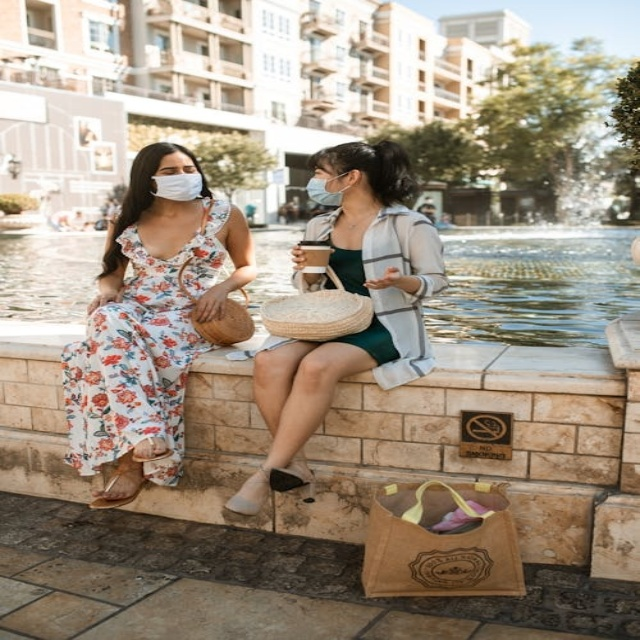Mascara: (149, 172, 205, 202), (306, 173, 351, 207)
Sin_gafas: (154, 165, 199, 176)
Sin_guantes: (361, 265, 404, 293), (196, 286, 228, 323), (291, 244, 308, 272)
